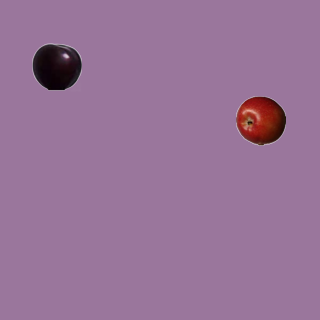Apple Braeburn: (235, 95, 285, 145)
Cherry Wax Black: (31, 41, 81, 91)
